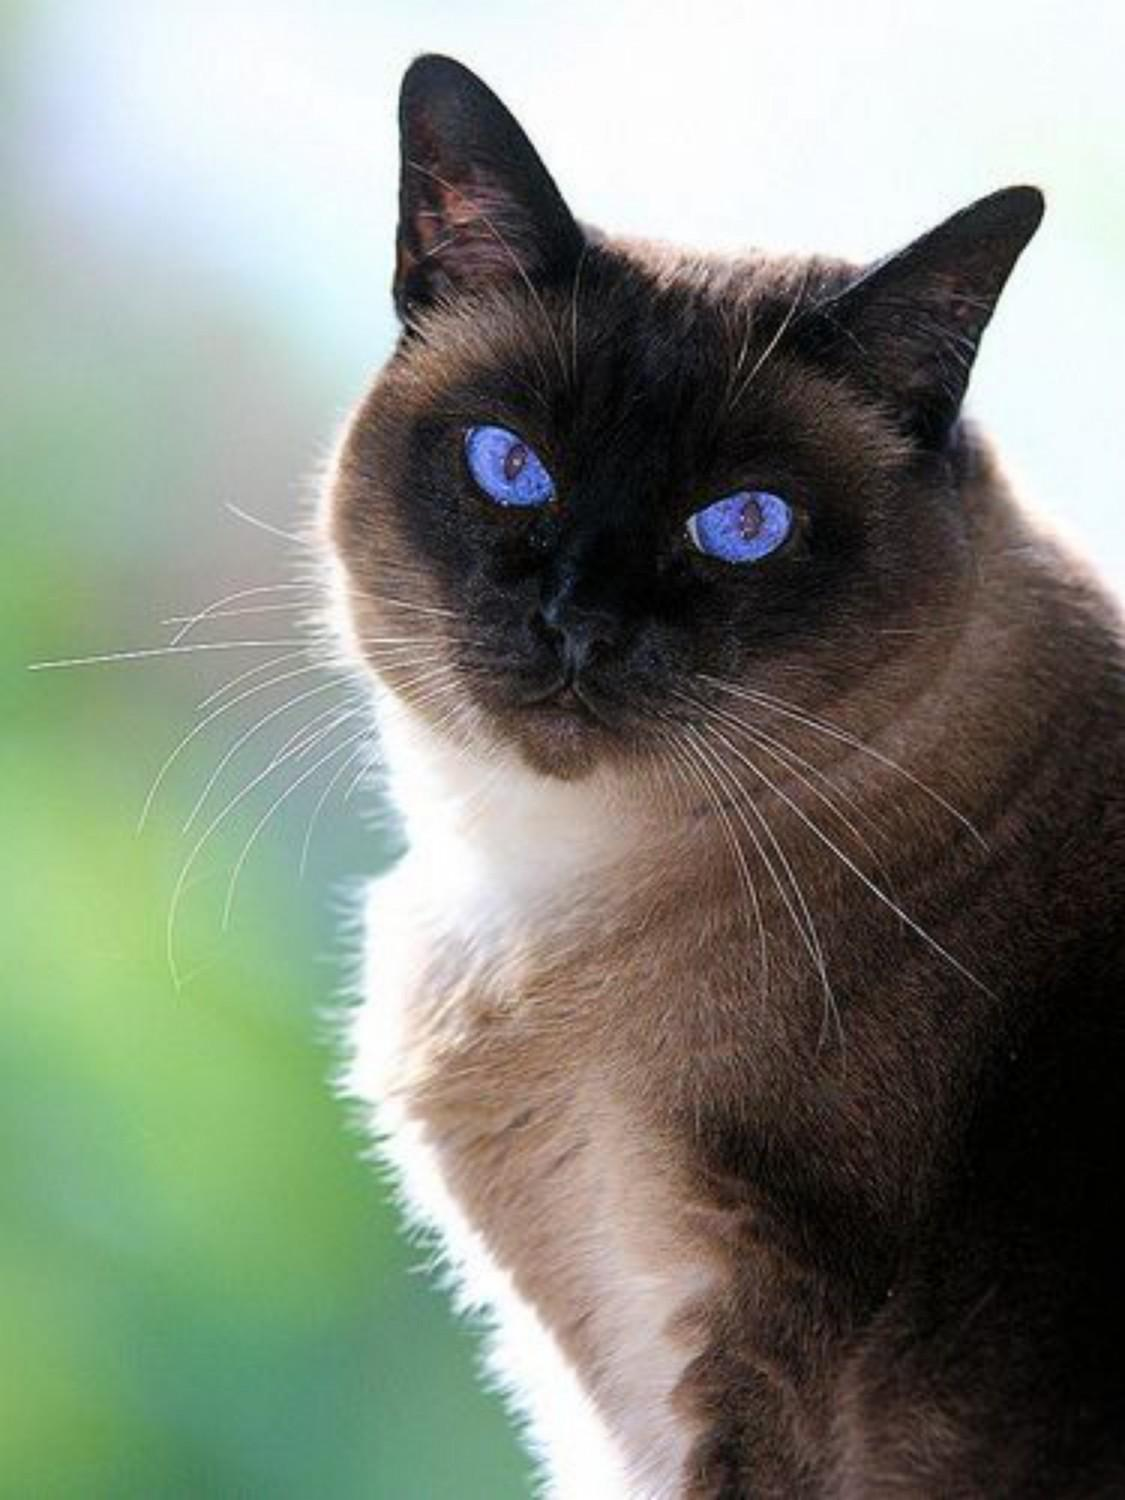siamese: (291, 34, 1084, 834)
